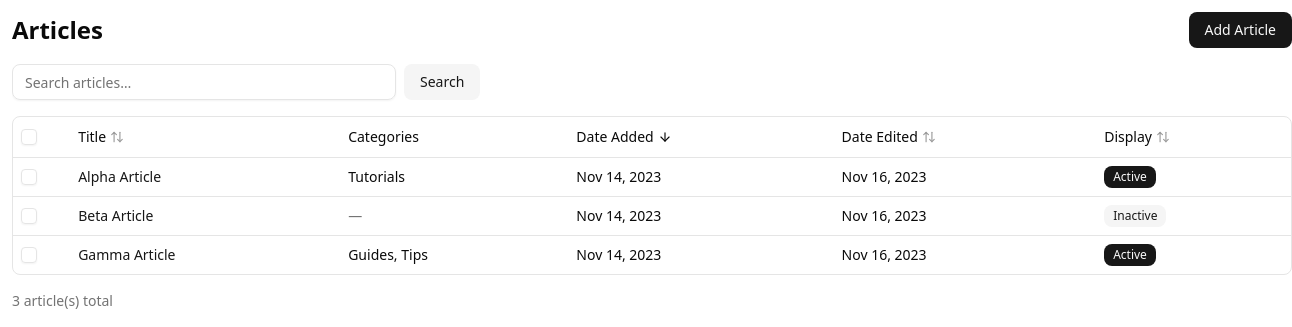
AdminArticlesPage › Row selection › shows selected count when rows are selected
Expected: the link "Alpha Article" is shown, [78, 166, 161, 186]
Note: First checkbox is "select all", subsequent are per-row
Click the checkbox named "Select row" next to "Alpha Article".
click(29, 176)  # box [21, 168, 37, 184]
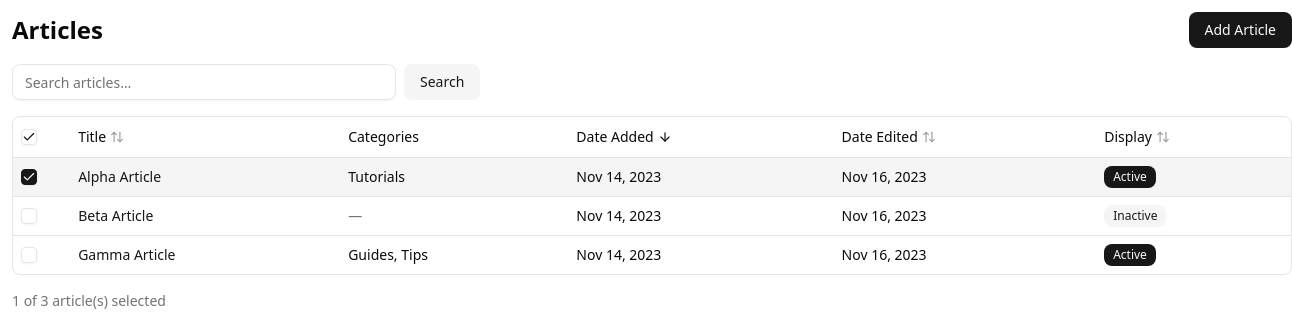
Result: the text "1 of 3 article(s) selected" is shown at [12, 290, 166, 310]
